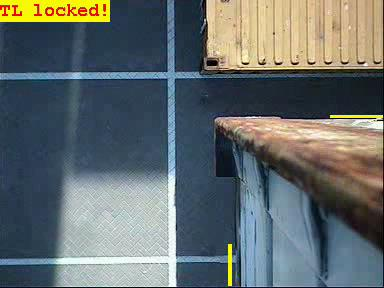groundmarker_2: (60, 136, 153, 193)
